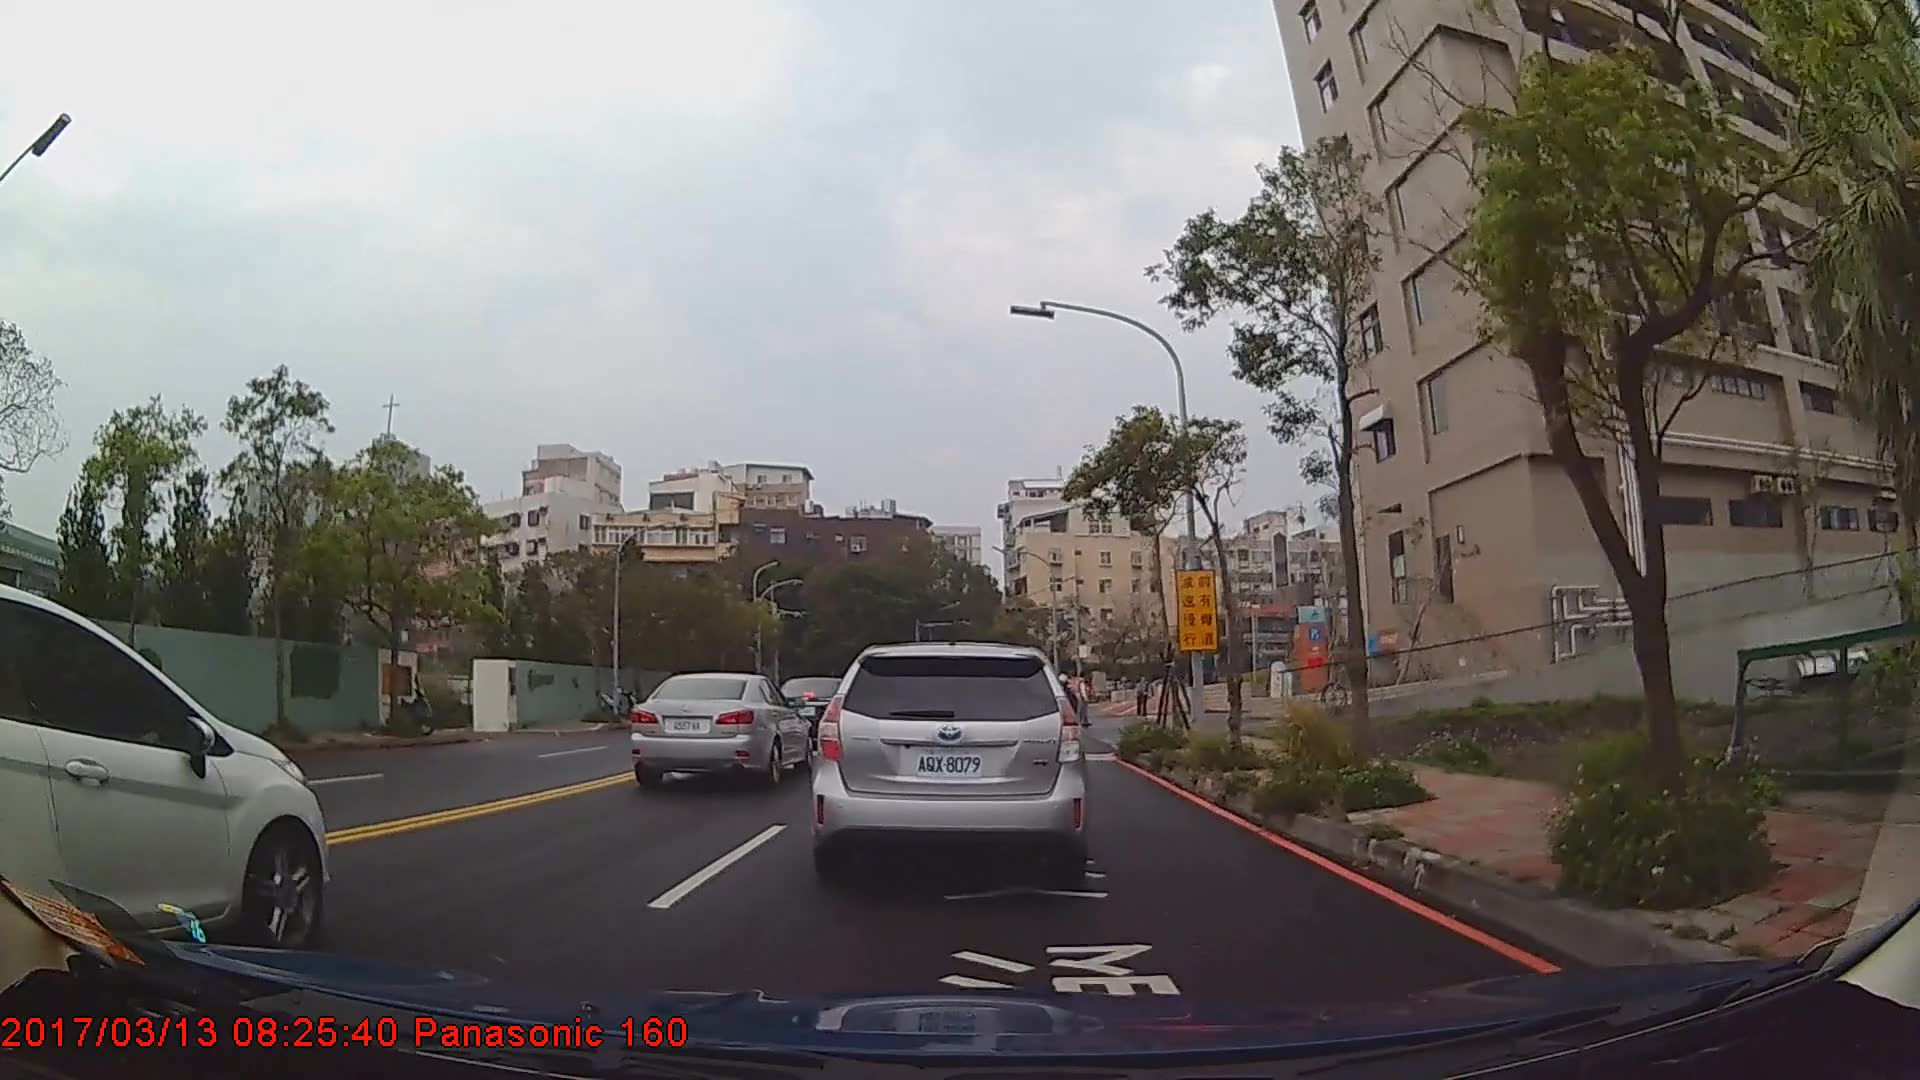pedestrian: (1075, 669, 1095, 728)
vehicle: (0, 579, 329, 962), (812, 638, 1086, 878), (628, 671, 814, 789)
